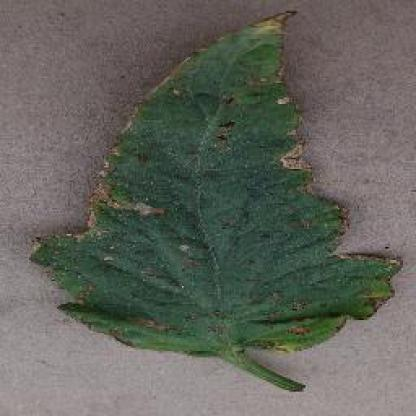bad leaf: (43, 3, 404, 364)
